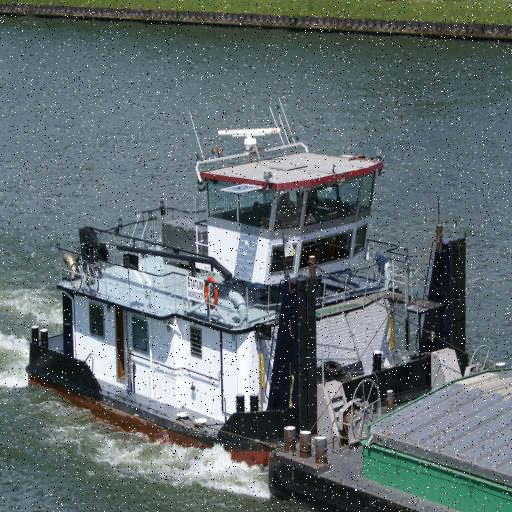tugboat: (26, 96, 473, 477)
